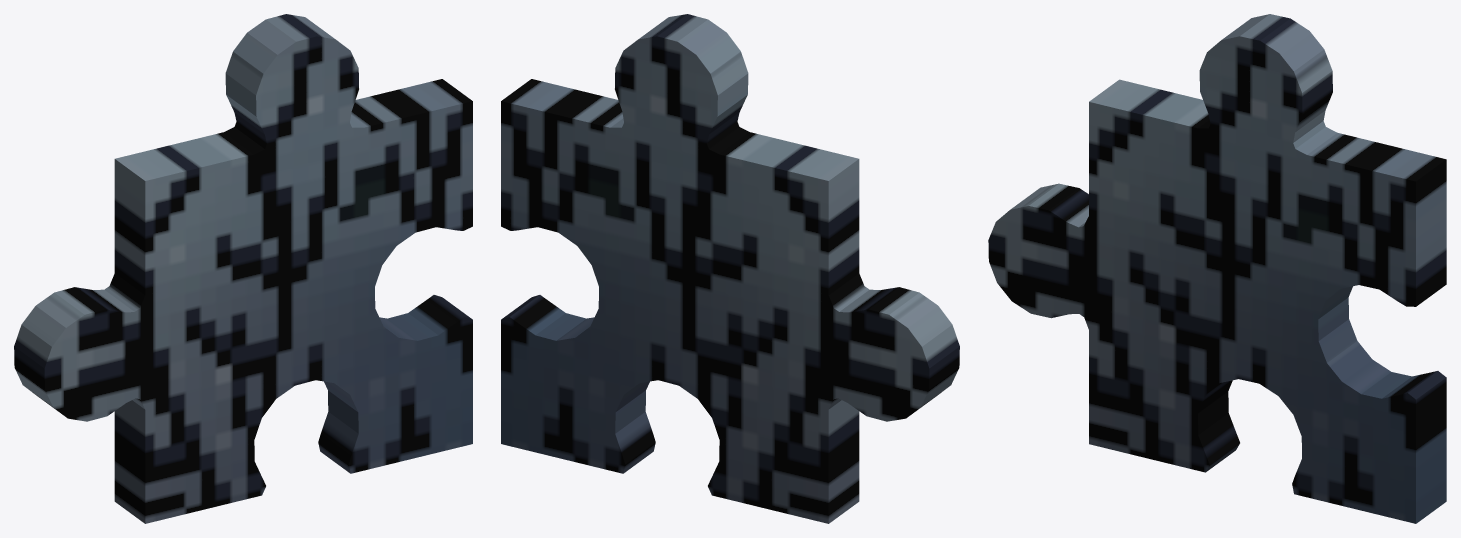
File: Pieces_5_017.fbx
The picture shows the model from 3 angles, left to right: view 1: azimuth 30°, elevation 25°; view 2: azimuth 150°, elevation 25°; view 3: azimuth 330°, elevation 25°; orthographic projection.
Parts seen in each view (by area): view 1: Pieces 5.017; view 2: Pieces 5.017; view 3: Pieces 5.017.
Part boxes in pixels (box(x1,y1,x2,y2)): Pieces 5.017: box(14, 14, 472, 523); Pieces 5.017: box(501, 14, 959, 523); Pieces 5.017: box(988, 14, 1446, 523).
Bounding box in the file's own units: 105 × 105 × 12.98.
